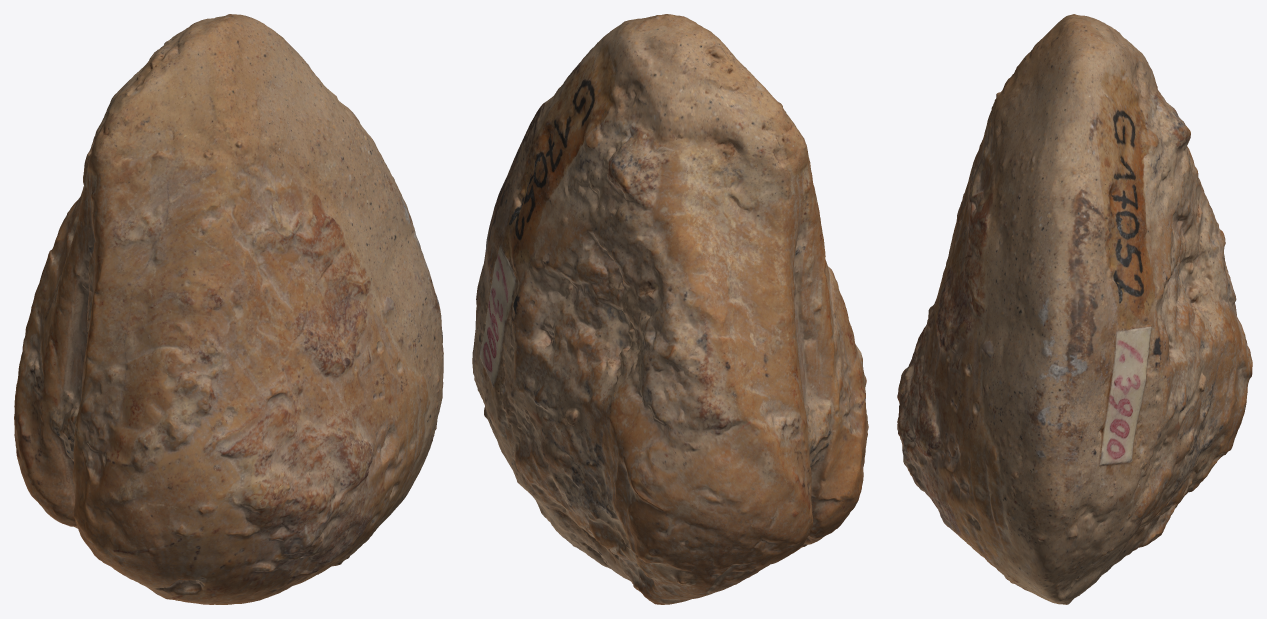
File: EWS0012652.glb
The picture shows the model from 3 angles, left to right: view 1: azimuth 30°, elevation 25°; view 2: azimuth 150°, elevation 25°; view 3: azimuth 270°, elevation 25°; orthographic projection. The views are drawn at different scales.
Parts seen in each view (by area): view 1: input; view 2: input; view 3: input.
Part boxes in pixels (left/top/right/bottom): input: left=14, top=14, right=443, bottom=604; input: left=472, top=14, right=868, bottom=604; input: left=897, top=14, right=1252, bottom=604.
Size of the model in its own units: 0.0388 by 0.0563 by 0.0331.
Materials: 1 (1 with a texture image).
